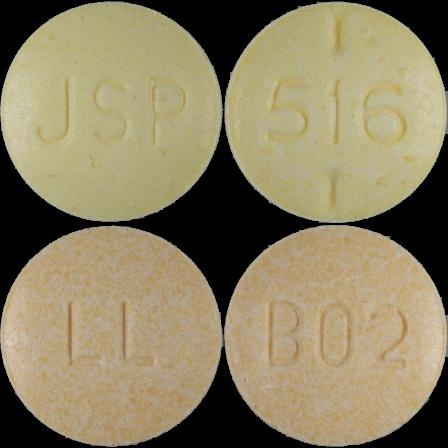16590-302: (0, 0, 224, 224)
